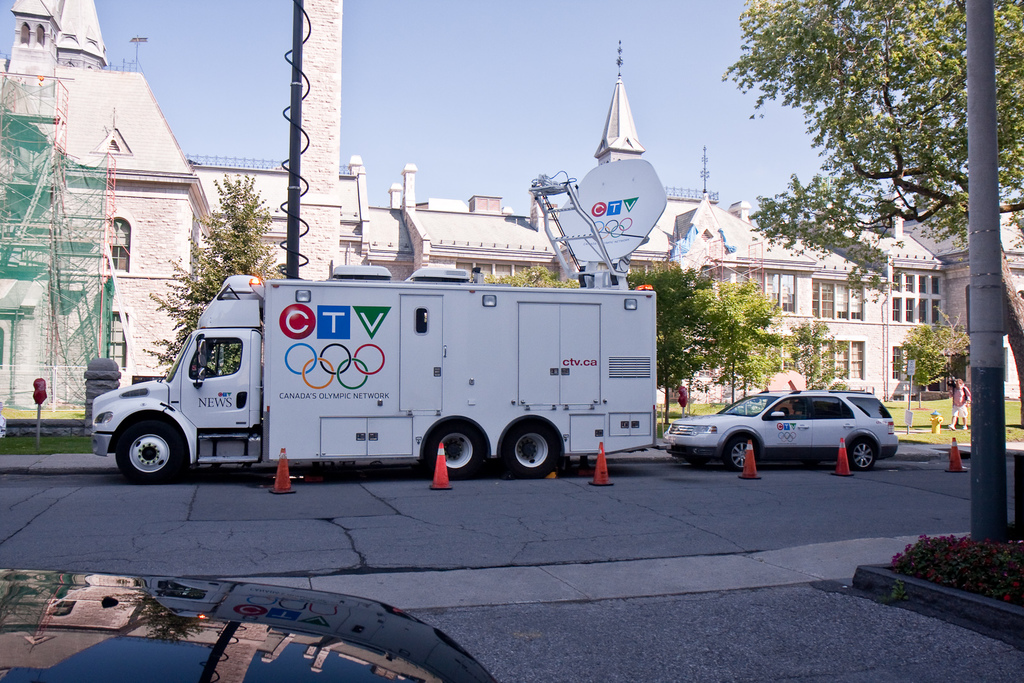car: (661, 374, 909, 477)
truck: (69, 245, 677, 498)
